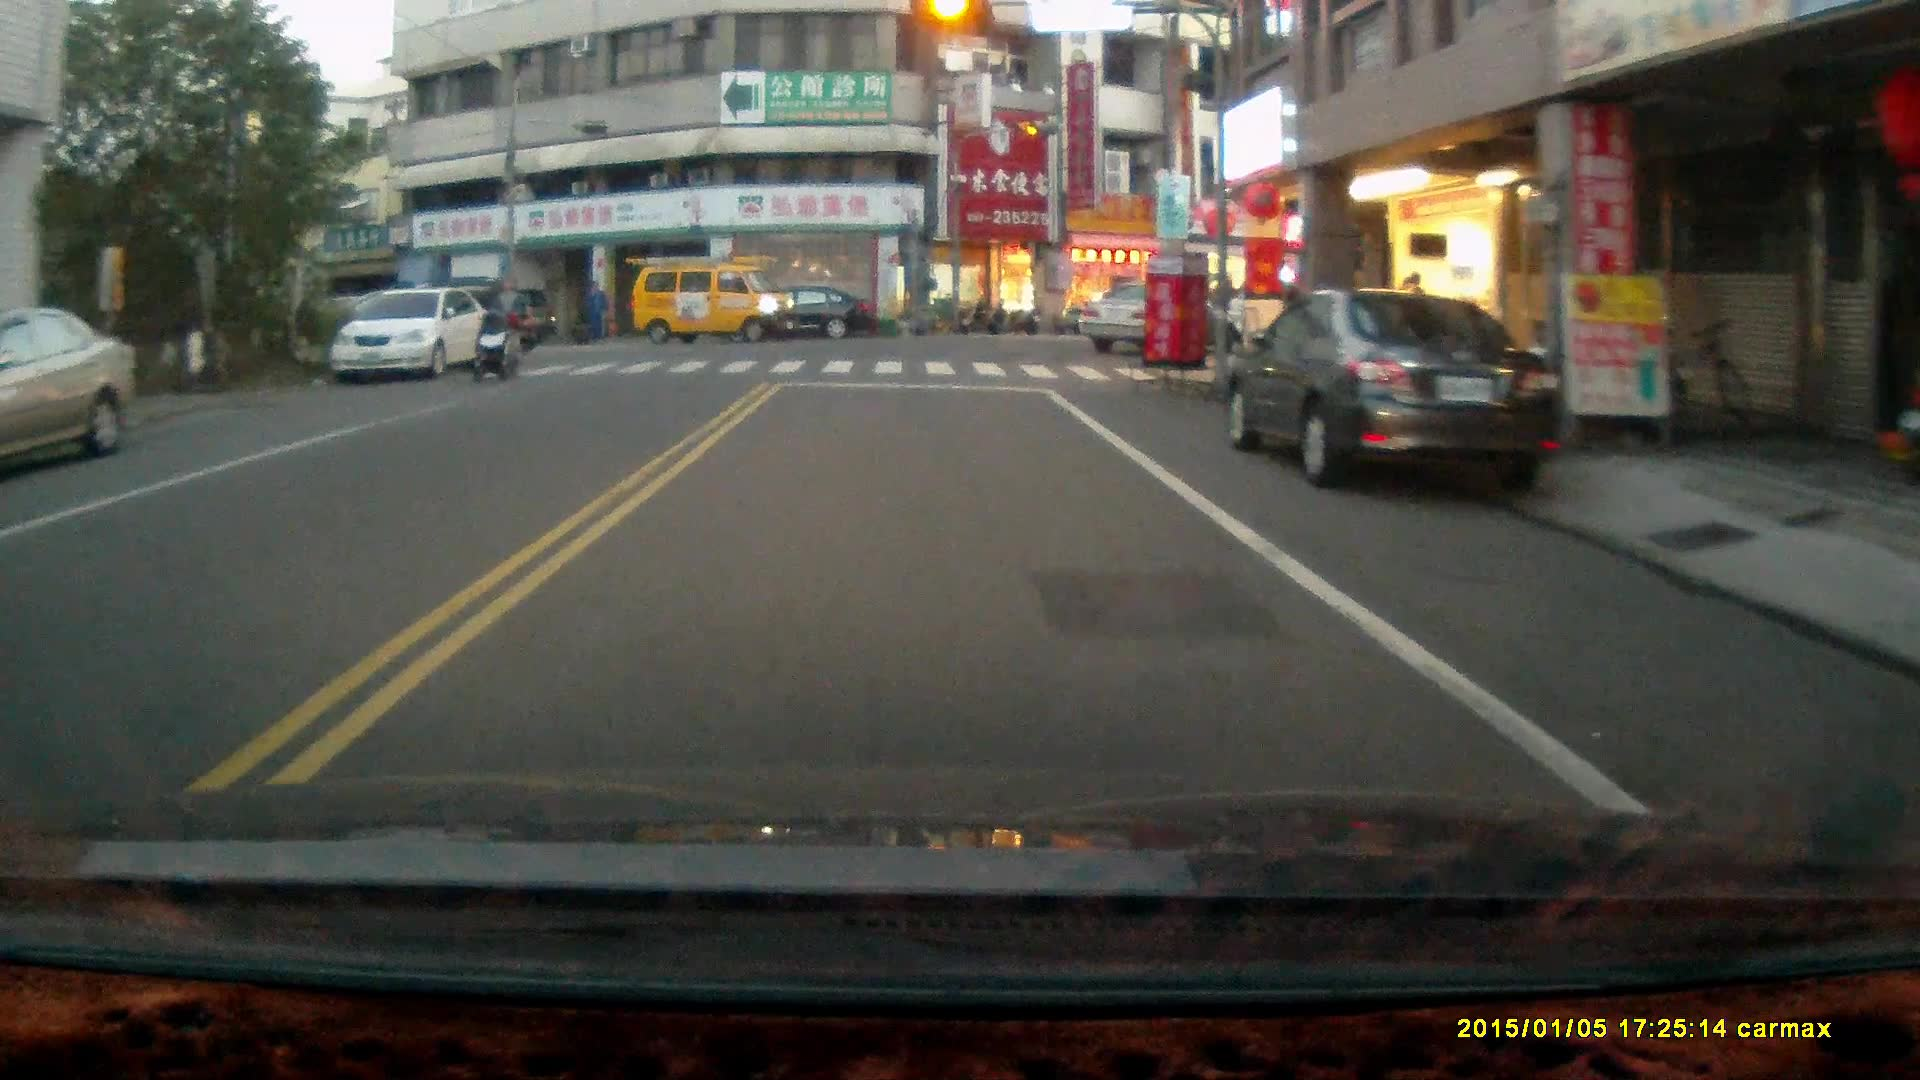pedestrian: (489, 275, 521, 364), (581, 277, 606, 341)
rider: (467, 309, 522, 384)
vehicle: (1224, 287, 1569, 497), (1, 298, 136, 474), (331, 288, 495, 385), (630, 257, 802, 348), (1074, 277, 1226, 353), (737, 284, 879, 345)
